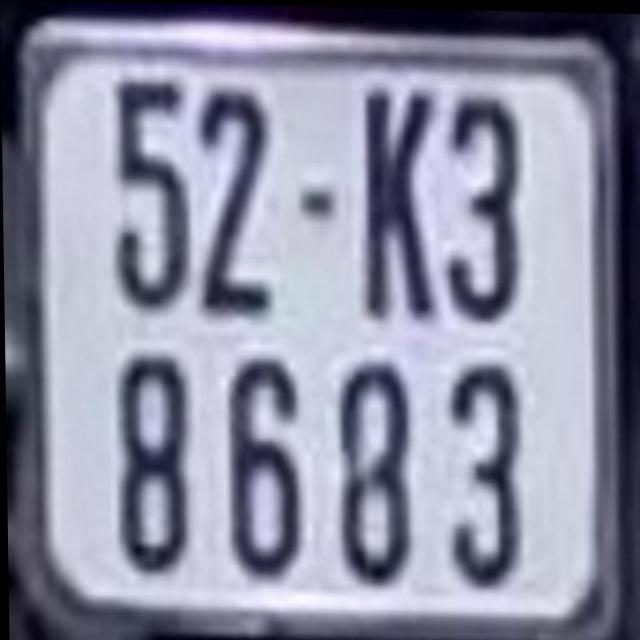2: (197, 85, 275, 309)
3: (441, 354, 519, 578), (449, 91, 520, 321)
5: (114, 80, 190, 304)
6: (221, 350, 303, 570)
8: (112, 354, 185, 571), (336, 356, 407, 578)
K: (356, 92, 444, 316)
